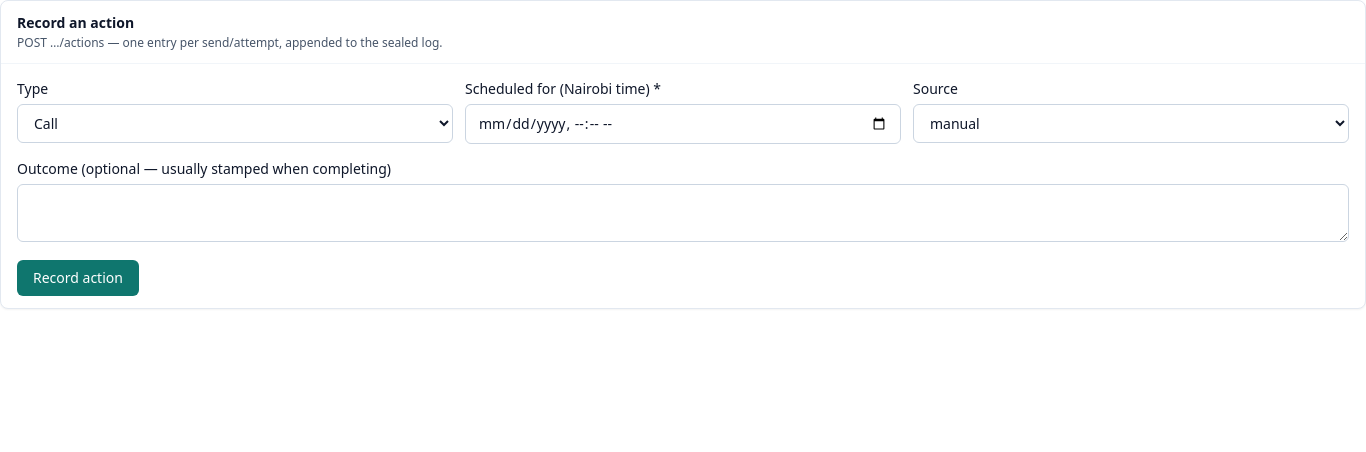
Scenario: CaseRecordActionPanel submission › refuses a missing schedule or consent locally — before the wire
This screenshot has width=1366, height=452.
Click the button "Record action". click: coordinates (78, 278)
box: x1=17 y1=260 x2=139 y2=296
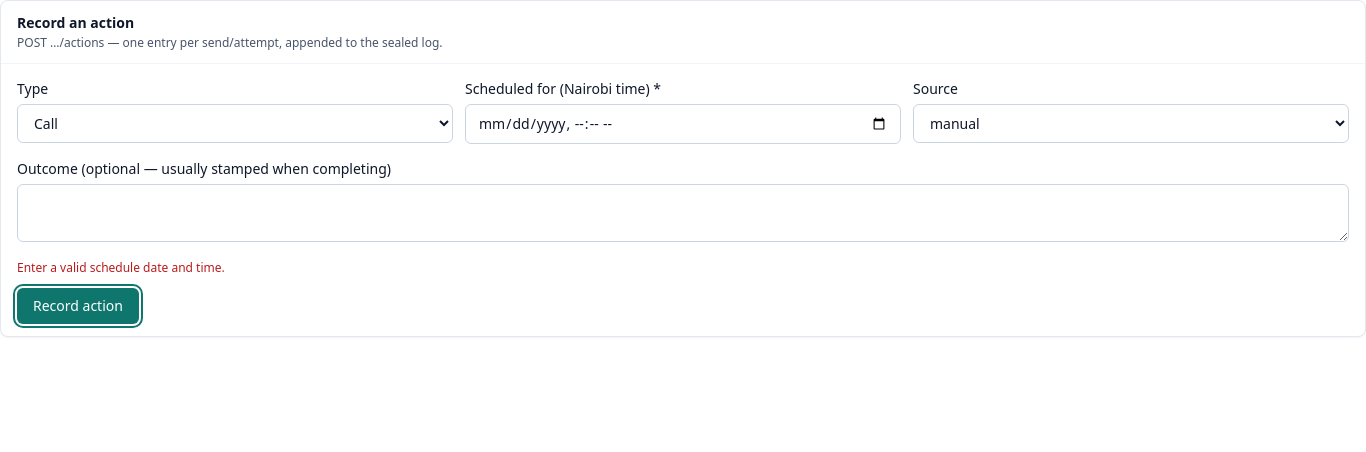
Now the message with test id "case-record-action-local-error" shows "Enter a valid schedule", box x1=17 y1=259 x2=225 y2=276
Select "SMS" in the dropdown labelled "Type". click: coordinates (235, 124)
box: x1=17 y1=104 x2=453 y2=143
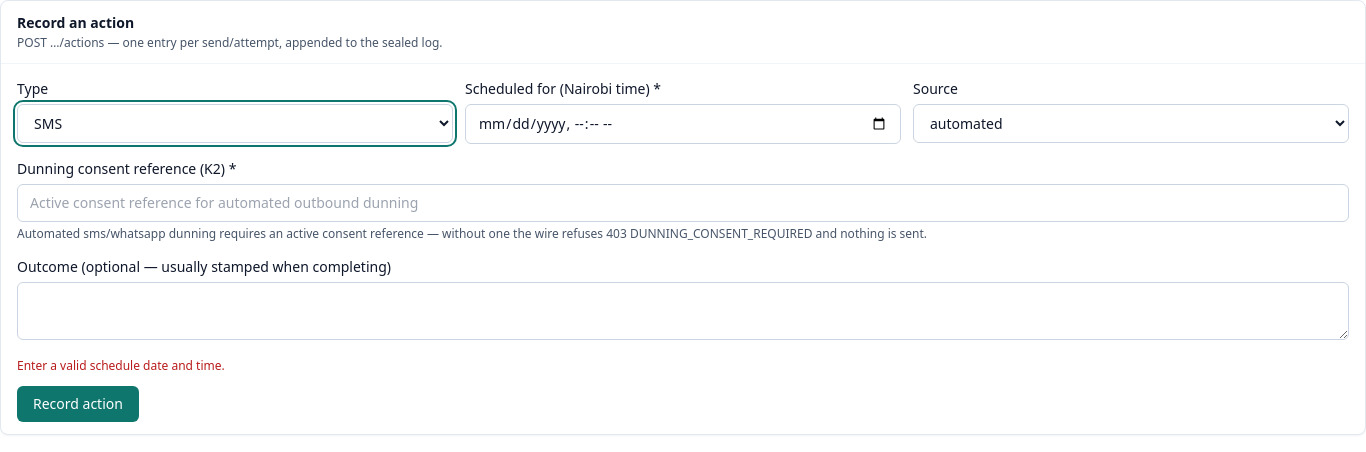
Type "2026-09-02T09:00" into the field labelled "Scheduled for (Nairobi time) *". click: coordinates (683, 124)
box: x1=465 y1=104 x2=901 y2=144
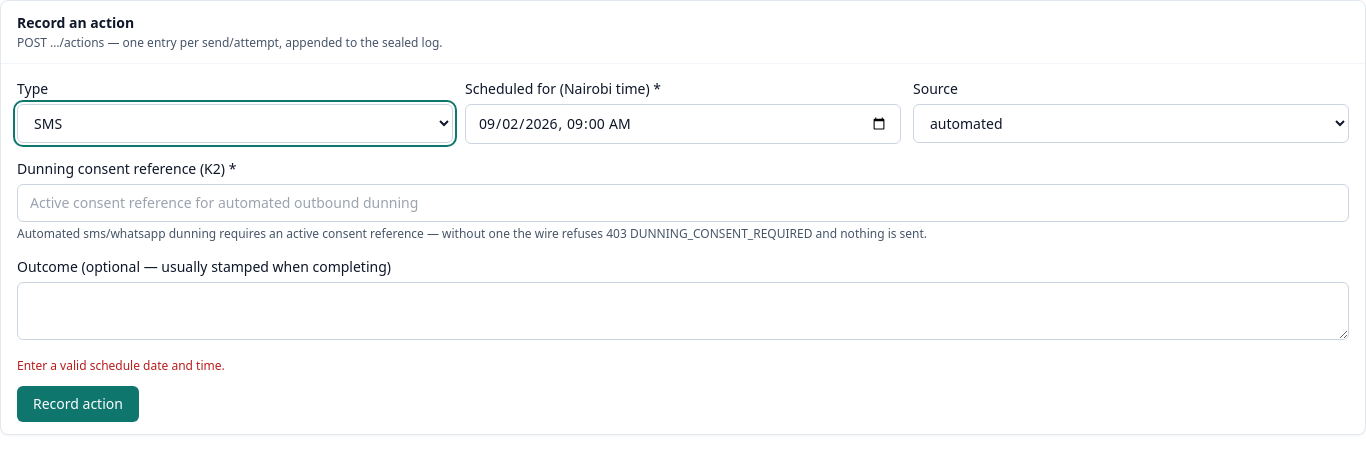
Click the button "Record action". click: coordinates (78, 404)
box: x1=17 y1=386 x2=139 y2=422
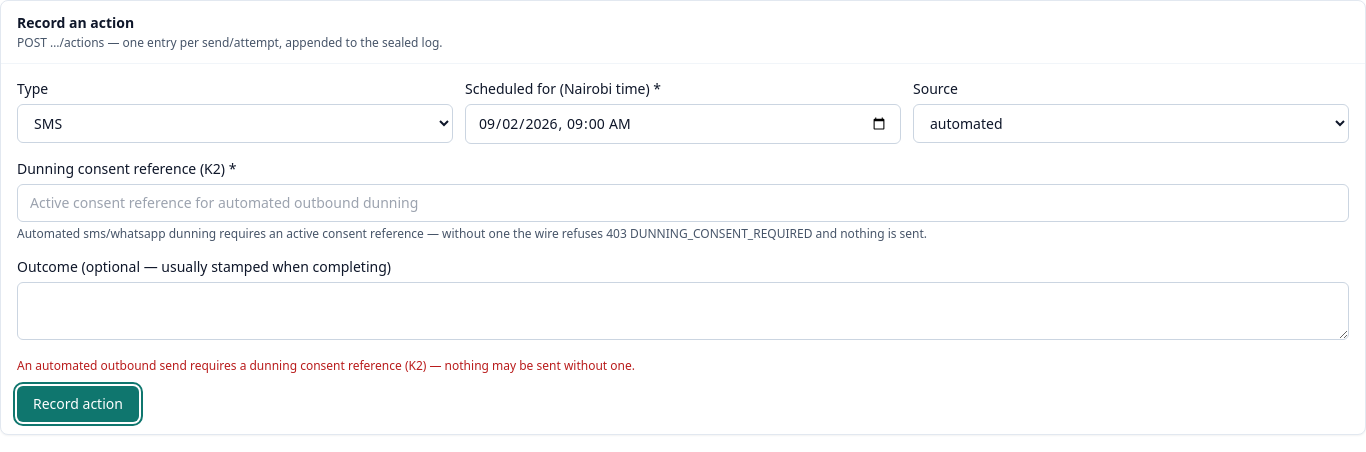
Now the message with test id "case-record-action-local-error" shows "requires a dunning consent reference", box x1=17 y1=357 x2=635 y2=374
